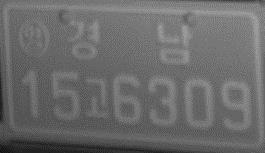0: (182, 76, 217, 130)
1: (18, 66, 44, 120)
3: (146, 73, 180, 127)
5: (49, 67, 81, 123)
6: (112, 71, 143, 125)
9: (219, 78, 254, 132)
경남_D: (65, 16, 194, 67)
고: (82, 74, 112, 121)
영: (16, 15, 52, 57)
